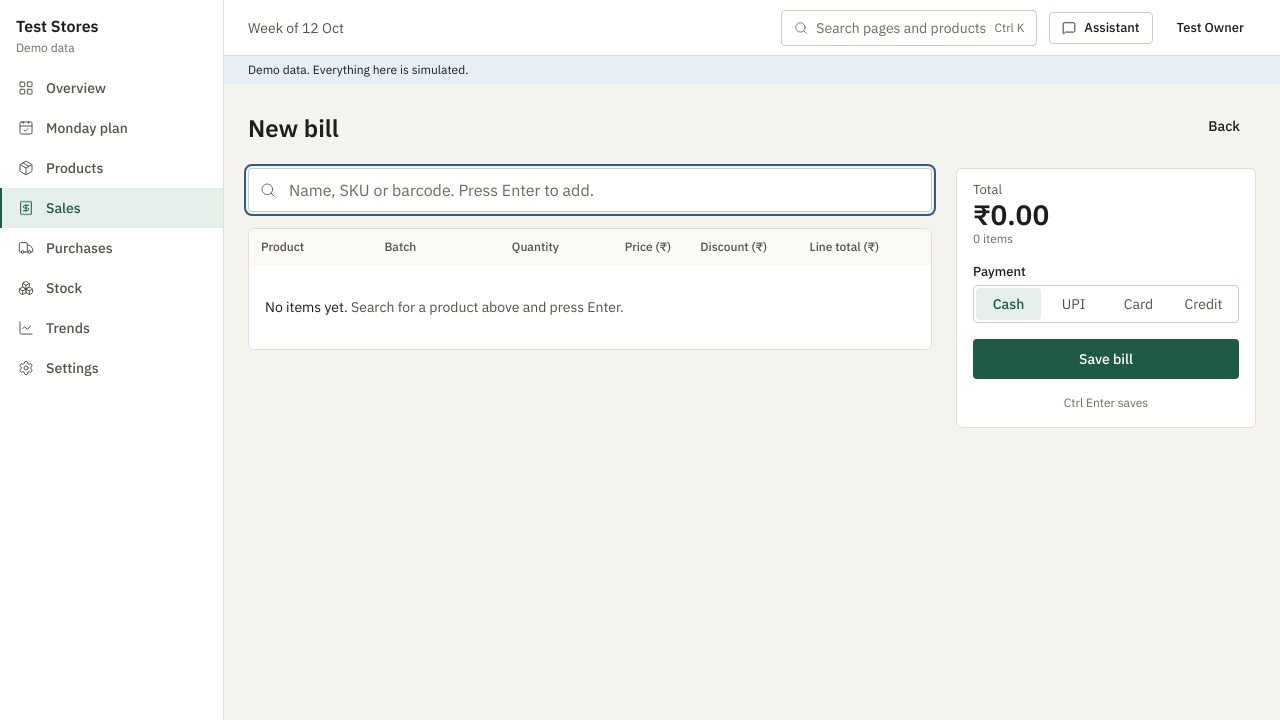
Test: sale entry keyboard flow › adds a line with Enter and saves with Ctrl+Enter
The image size is (1280, 720).
Type "pepper" into the dropdown named "Find a product".
click(590, 190); type("pepper")  # box [248,168,932,212]
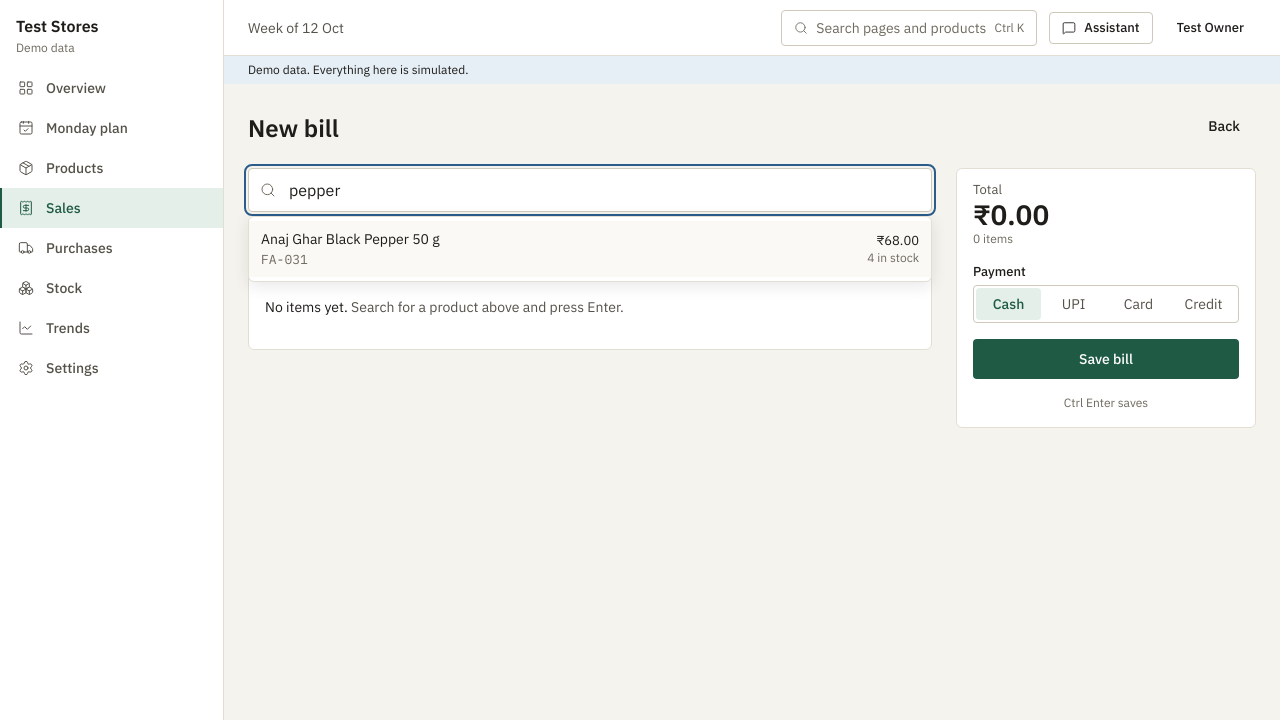
expect the option "Anaj Ghar Black Pepper 50 g FA-031 ₹68.00 4 in stock" is shown: met, box [249,221,931,277]
Press Enter
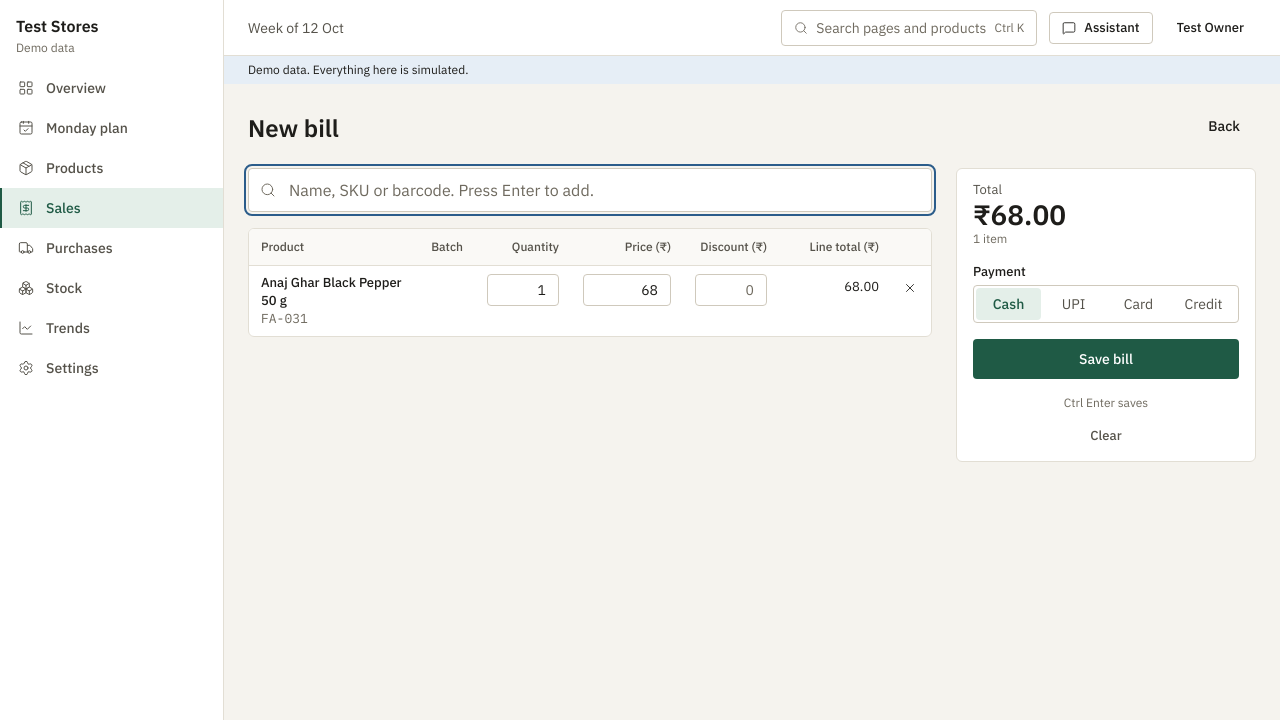
expect the field named "Quantity of Anaj Ghar Black Pepper 50 g" holds "1": met, box [487,274,559,306]
expect the dropdown named "Find a product" is empty: met, box [248,168,932,212]
Type keys "{Control>}{Enter}{/Control}"
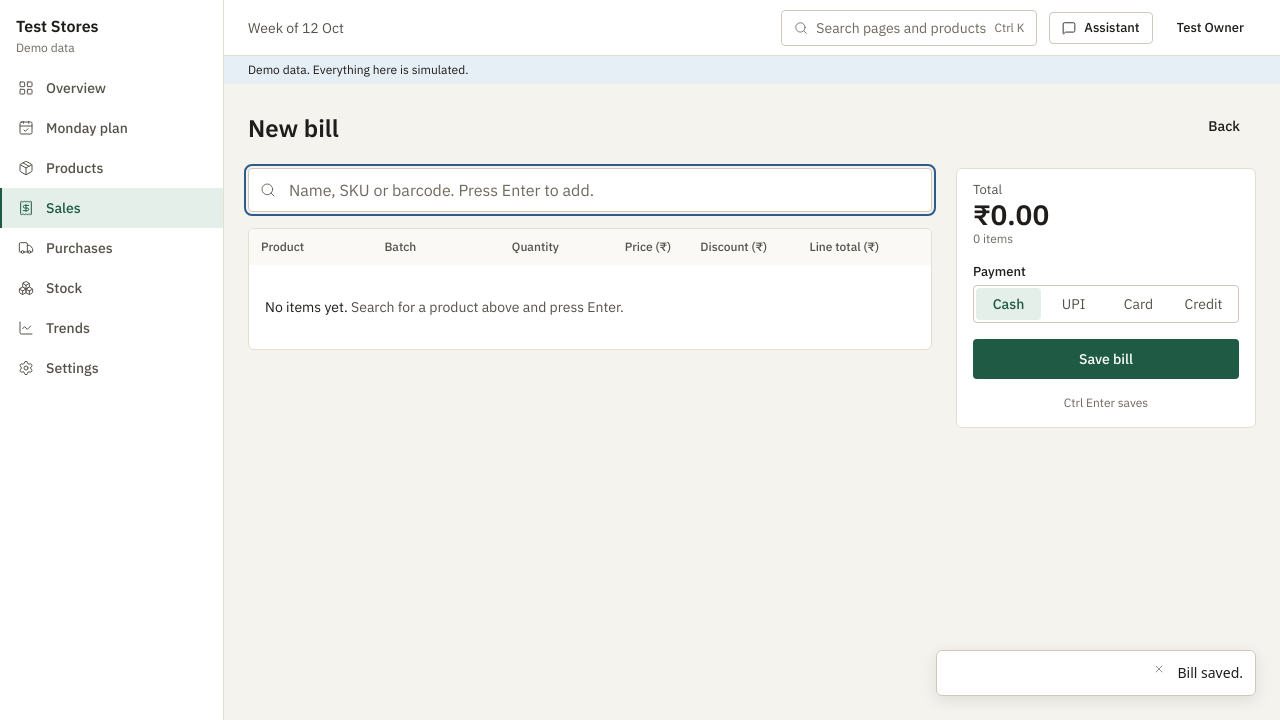
expect the text "Bill saved." is shown: met, box [1178,663,1243,683]
